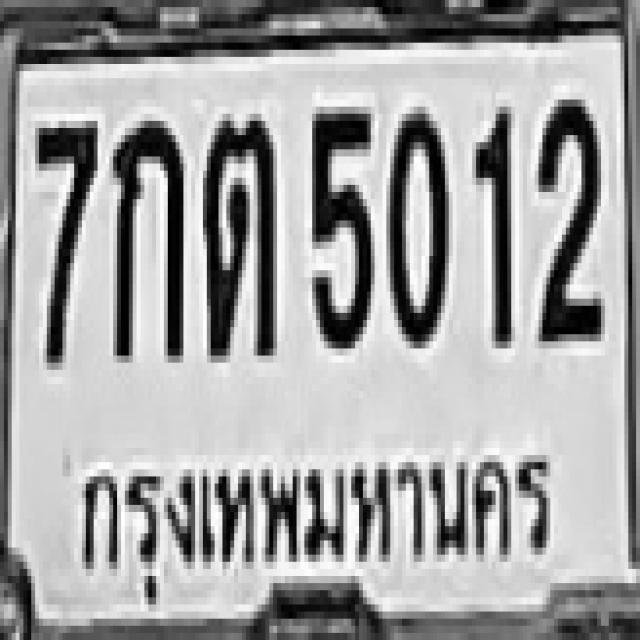0: (386, 100, 445, 342)
1: (472, 100, 508, 342)
10GorGai: (110, 114, 180, 356)
2: (535, 93, 597, 334)
30TorTao: (203, 114, 273, 356)
5: (308, 100, 371, 342)
7: (31, 114, 94, 362)
Bangkok: (67, 427, 565, 604)
